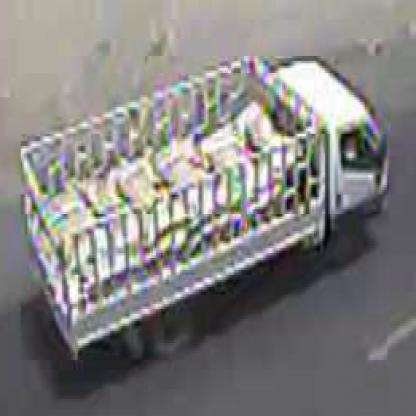truck: (20, 57, 388, 363)
